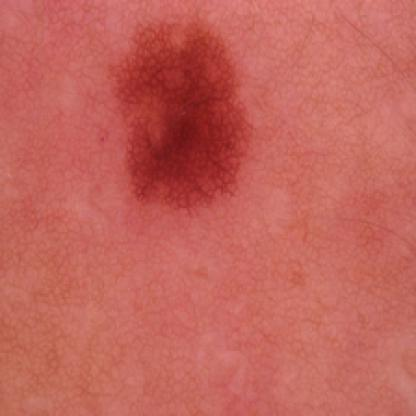benign: (108, 26, 264, 202)
